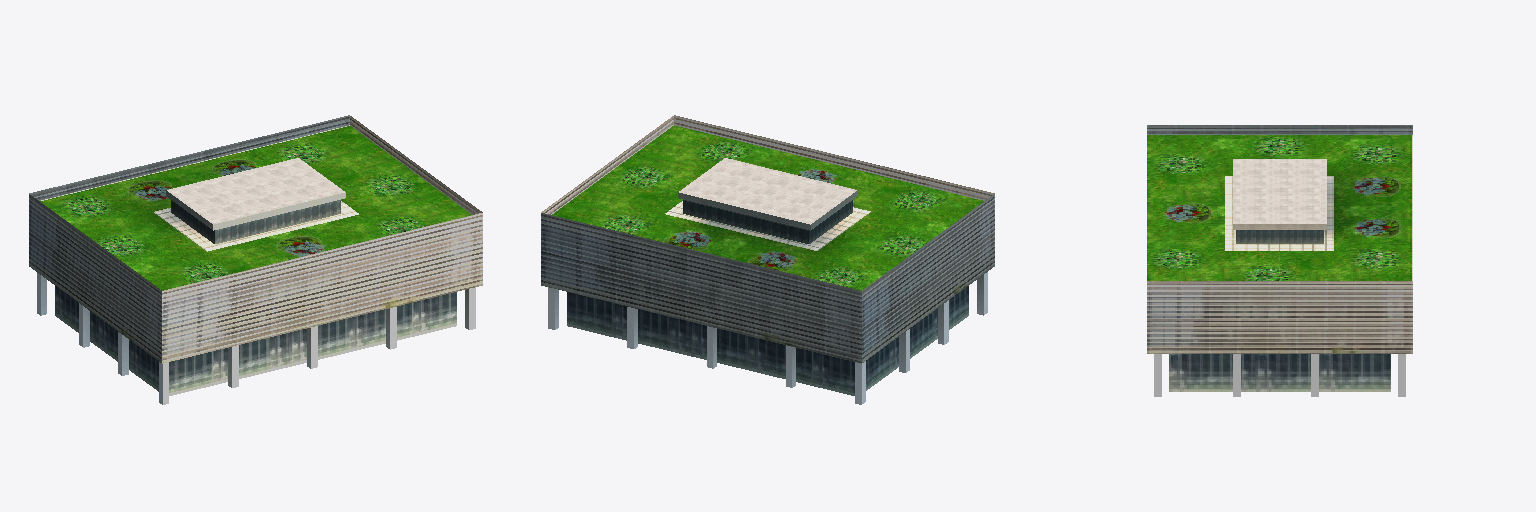
3 views of the same model, side by side, from view 1: azimuth 30°, elevation 25°; view 2: azimuth 150°, elevation 25°; view 3: azimuth 270°, elevation 25° (orthographic).
Visible parts, largest first — view 1: 4E3; view 2: 4E3; view 3: 4E3.
Part boxes in pixels (left/top/right/bottom): 4E3: left=29, top=115, right=482, bottom=404; 4E3: left=541, top=115, right=994, bottom=404; 4E3: left=1147, top=125, right=1412, bottom=396.
Size of the model in its own units: 34.23 by 13.2 by 24.59.
Materials: 1 (1 with a texture image).